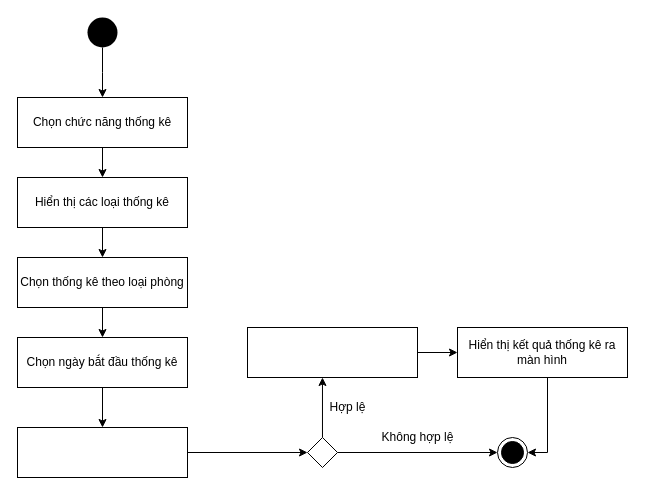
This 645x495 diagram has some shape labels left out. Each missing label, with the centre of its shape:
Chọn ngày kết thúc thống kê: (x=102, y=452)
Thực hiện thống kê: (x=332, y=352)
